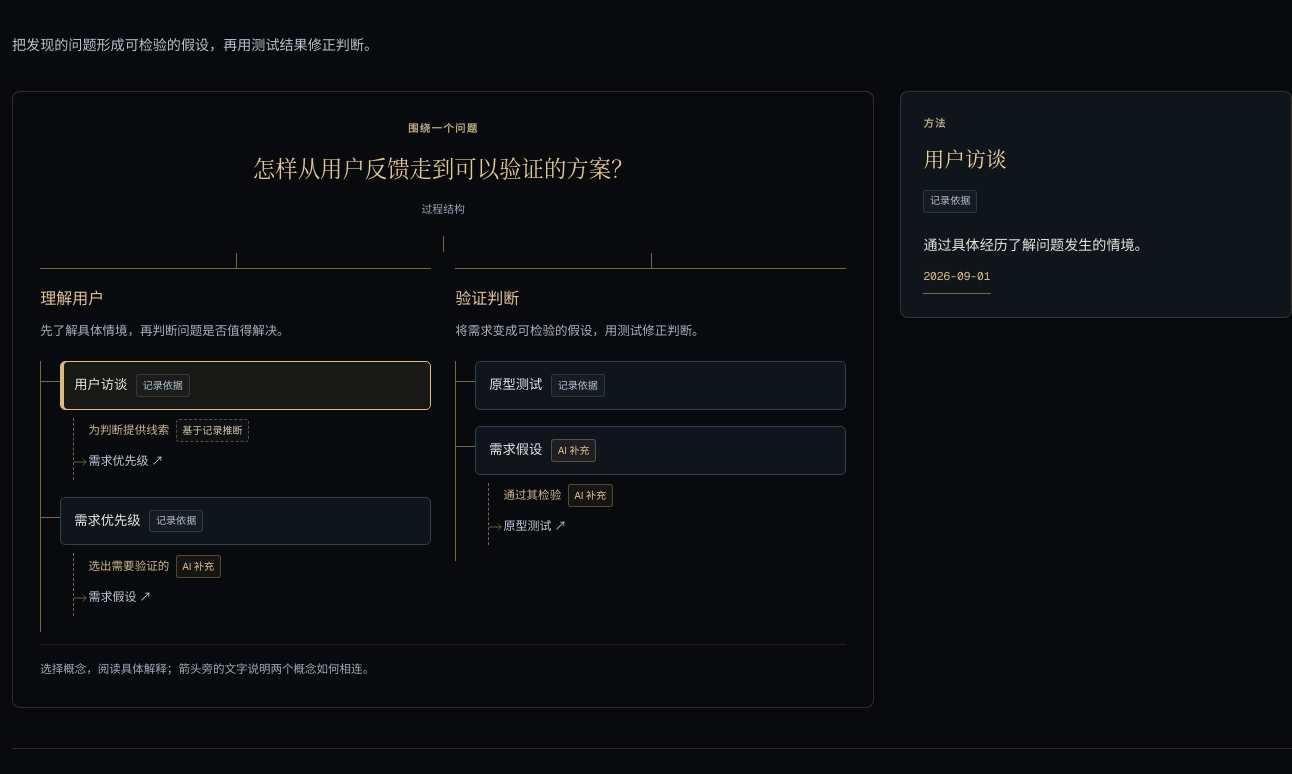
keeps desktop graph focus on the activated node
Click the button with aria-label "查看概念 原型测试": click(516, 385) [475,361,846,410]
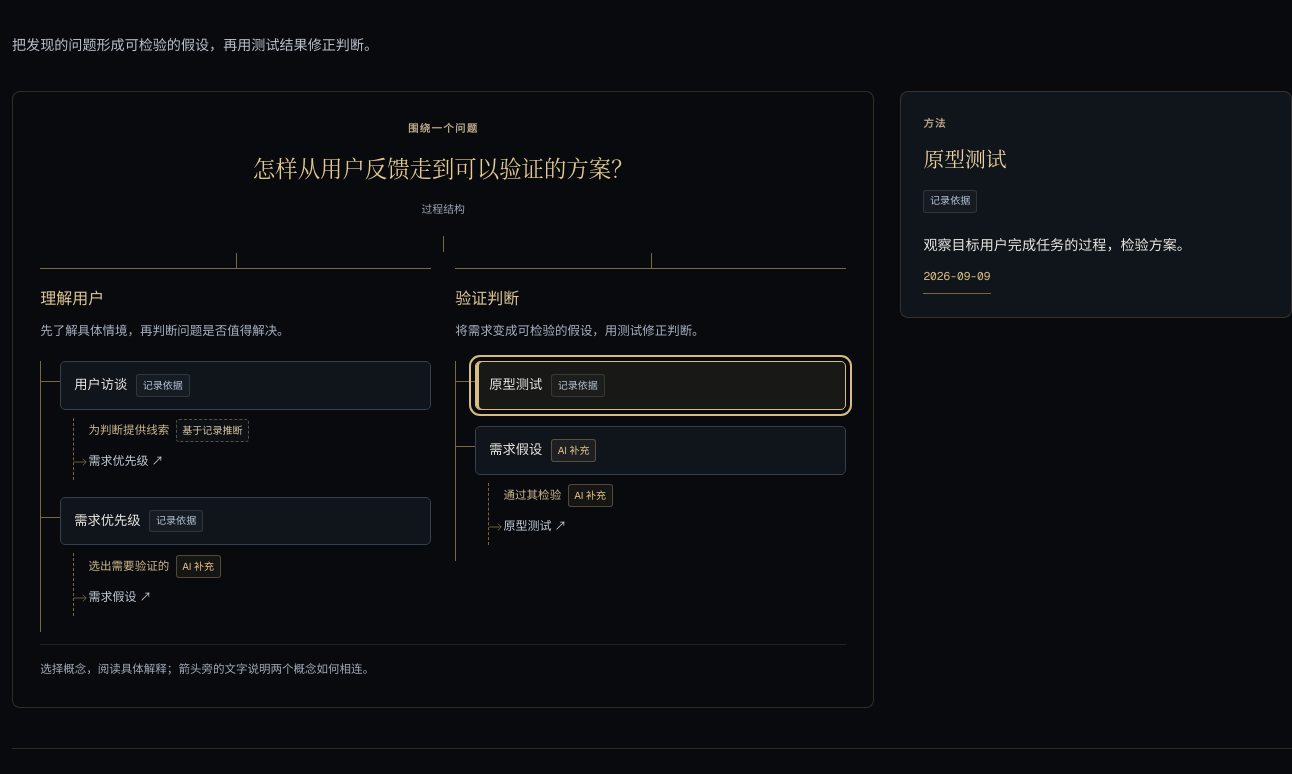
Result: the heading "原型测试" is shown at [923,144,1007,174]
